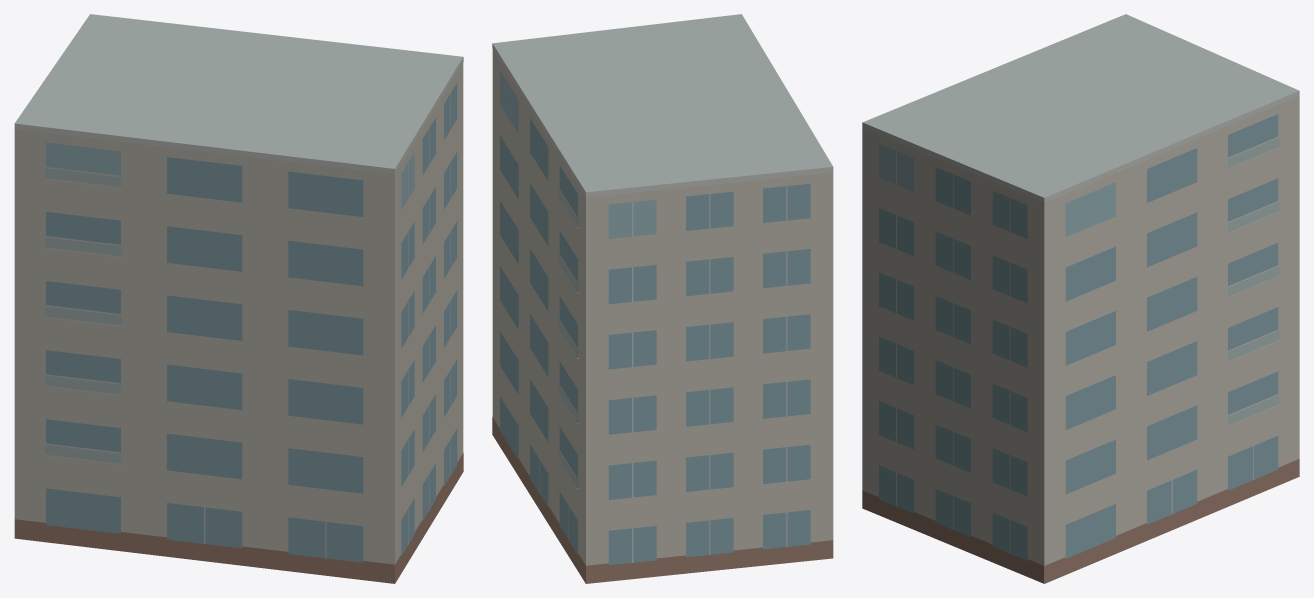
File: survey-upis-32849172.glb
3 views of the same model, side by side, from view 1: azimuth 30°, elevation 25°; view 2: azimuth 150°, elevation 25°; view 3: azimuth 270°, elevation 25° (orthographic). The views are drawn at different scales.
Visible parts, largest first — view 1: survey-upis-32849172.tmp; view 2: survey-upis-32849172.tmp; view 3: survey-upis-32849172.tmp.
Boxes of the visible parts, box(x1,y1,x2,y2) form: survey-upis-32849172.tmp: box(14, 14, 463, 583); survey-upis-32849172.tmp: box(492, 14, 833, 583); survey-upis-32849172.tmp: box(862, 14, 1299, 583).
Size of the model in its own units: 18.7 by 18.3 by 18.79.
